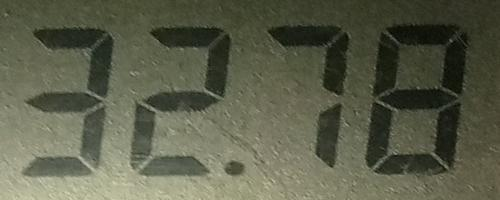.: (220, 157, 247, 181)
